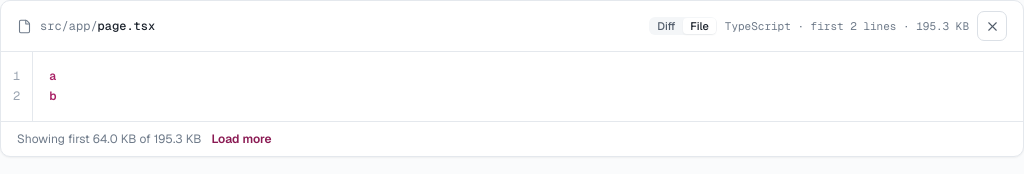
it: SessionViewer sliced reads › refuses to splice two revisions of one file, and offers to read the current one
Click the button "Load more": (242, 139) [211,131,272,147]
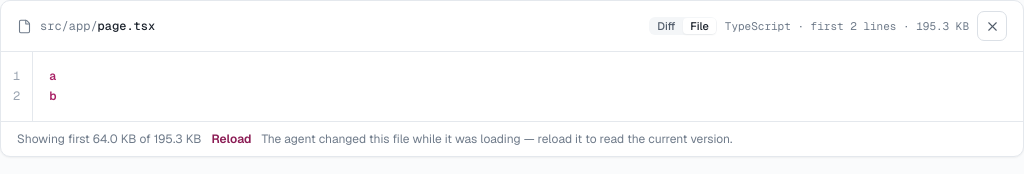
Result: the text "changed this file while it was loading" is shown at [262,131,732,147]
Click the button "Reload": (231, 139) [211,131,252,147]
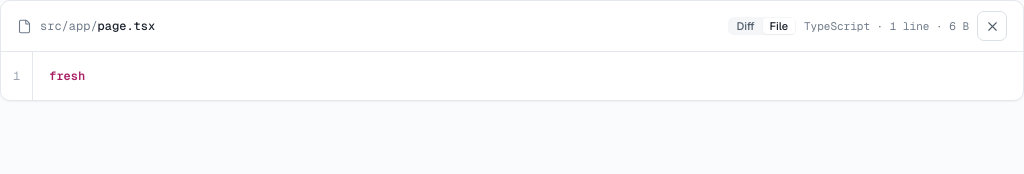
Result: the text "fresh" is shown at [49,68,85,84]
